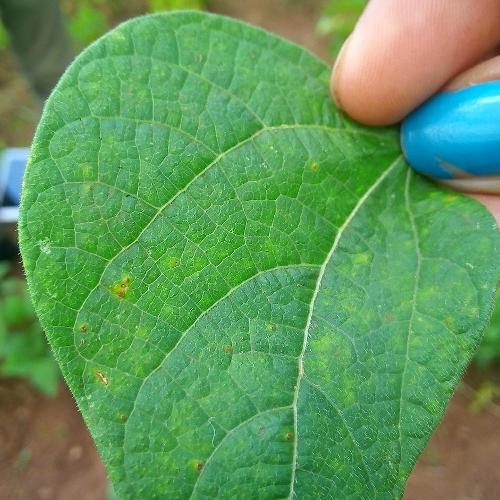mozaik: (88, 134, 380, 423)
